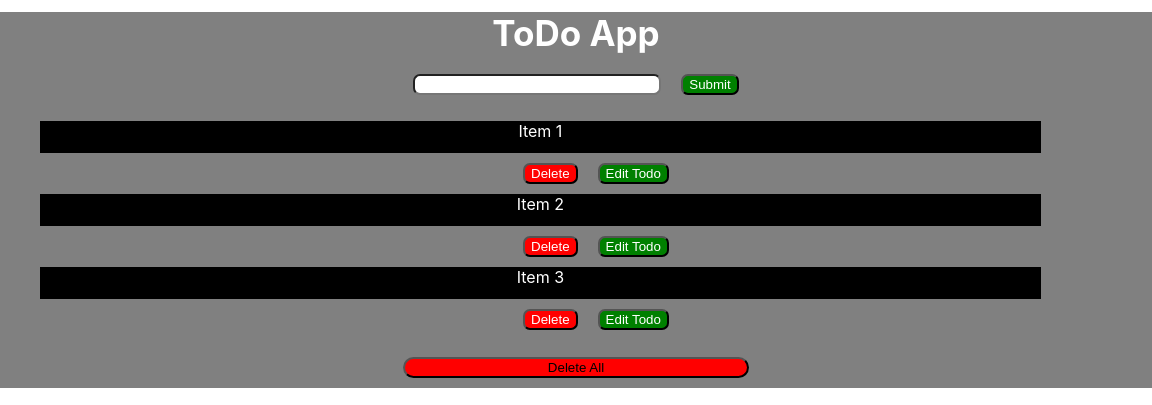
Test: App › deletes all items when clicking the "Delete All" button
What coordinates should you click on to do the following:
click the button "Delete All"
I would click on:
 (576, 368)
Its box is [403,357,749,378].
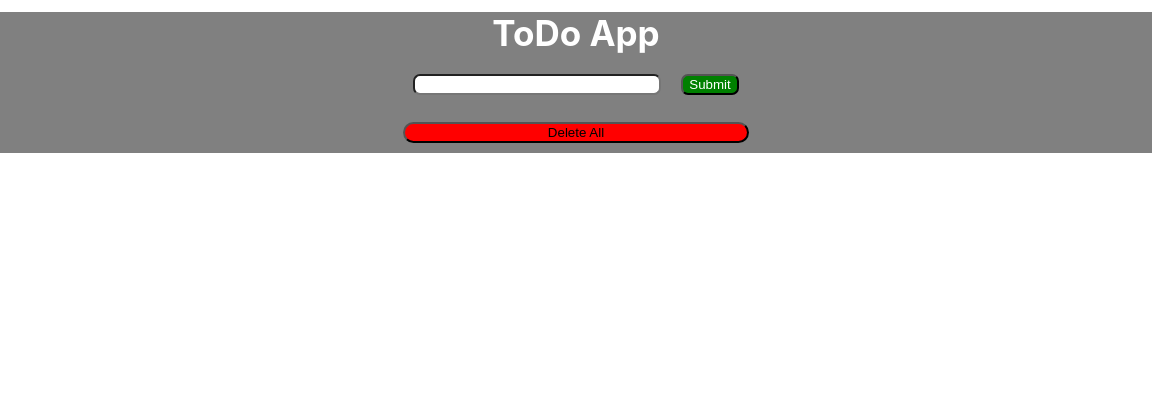
Expected: the text "Item" is not shown
